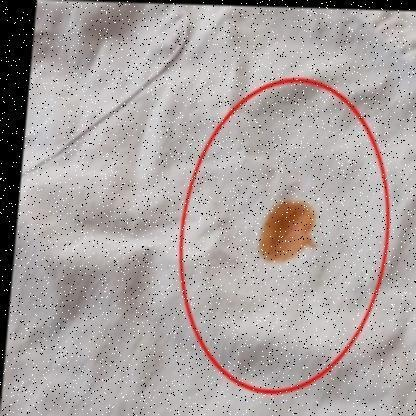kimchi: (246, 184, 325, 278)
